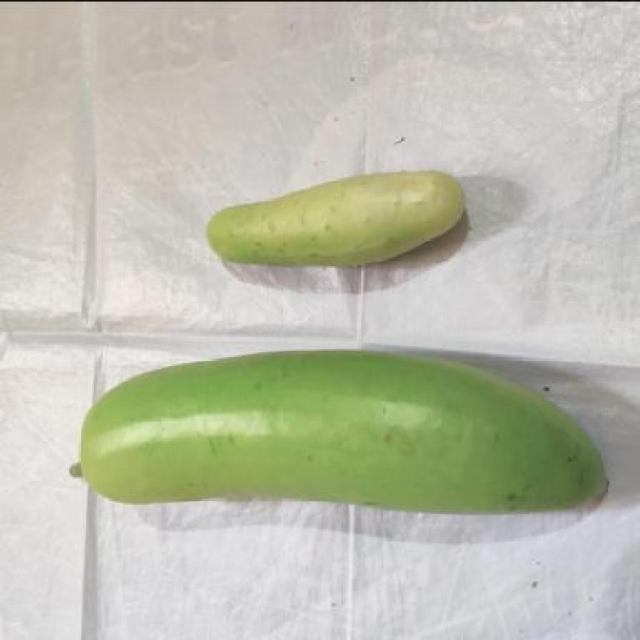Calabash: (68, 342, 616, 516)
cucumber: (206, 168, 468, 272)
